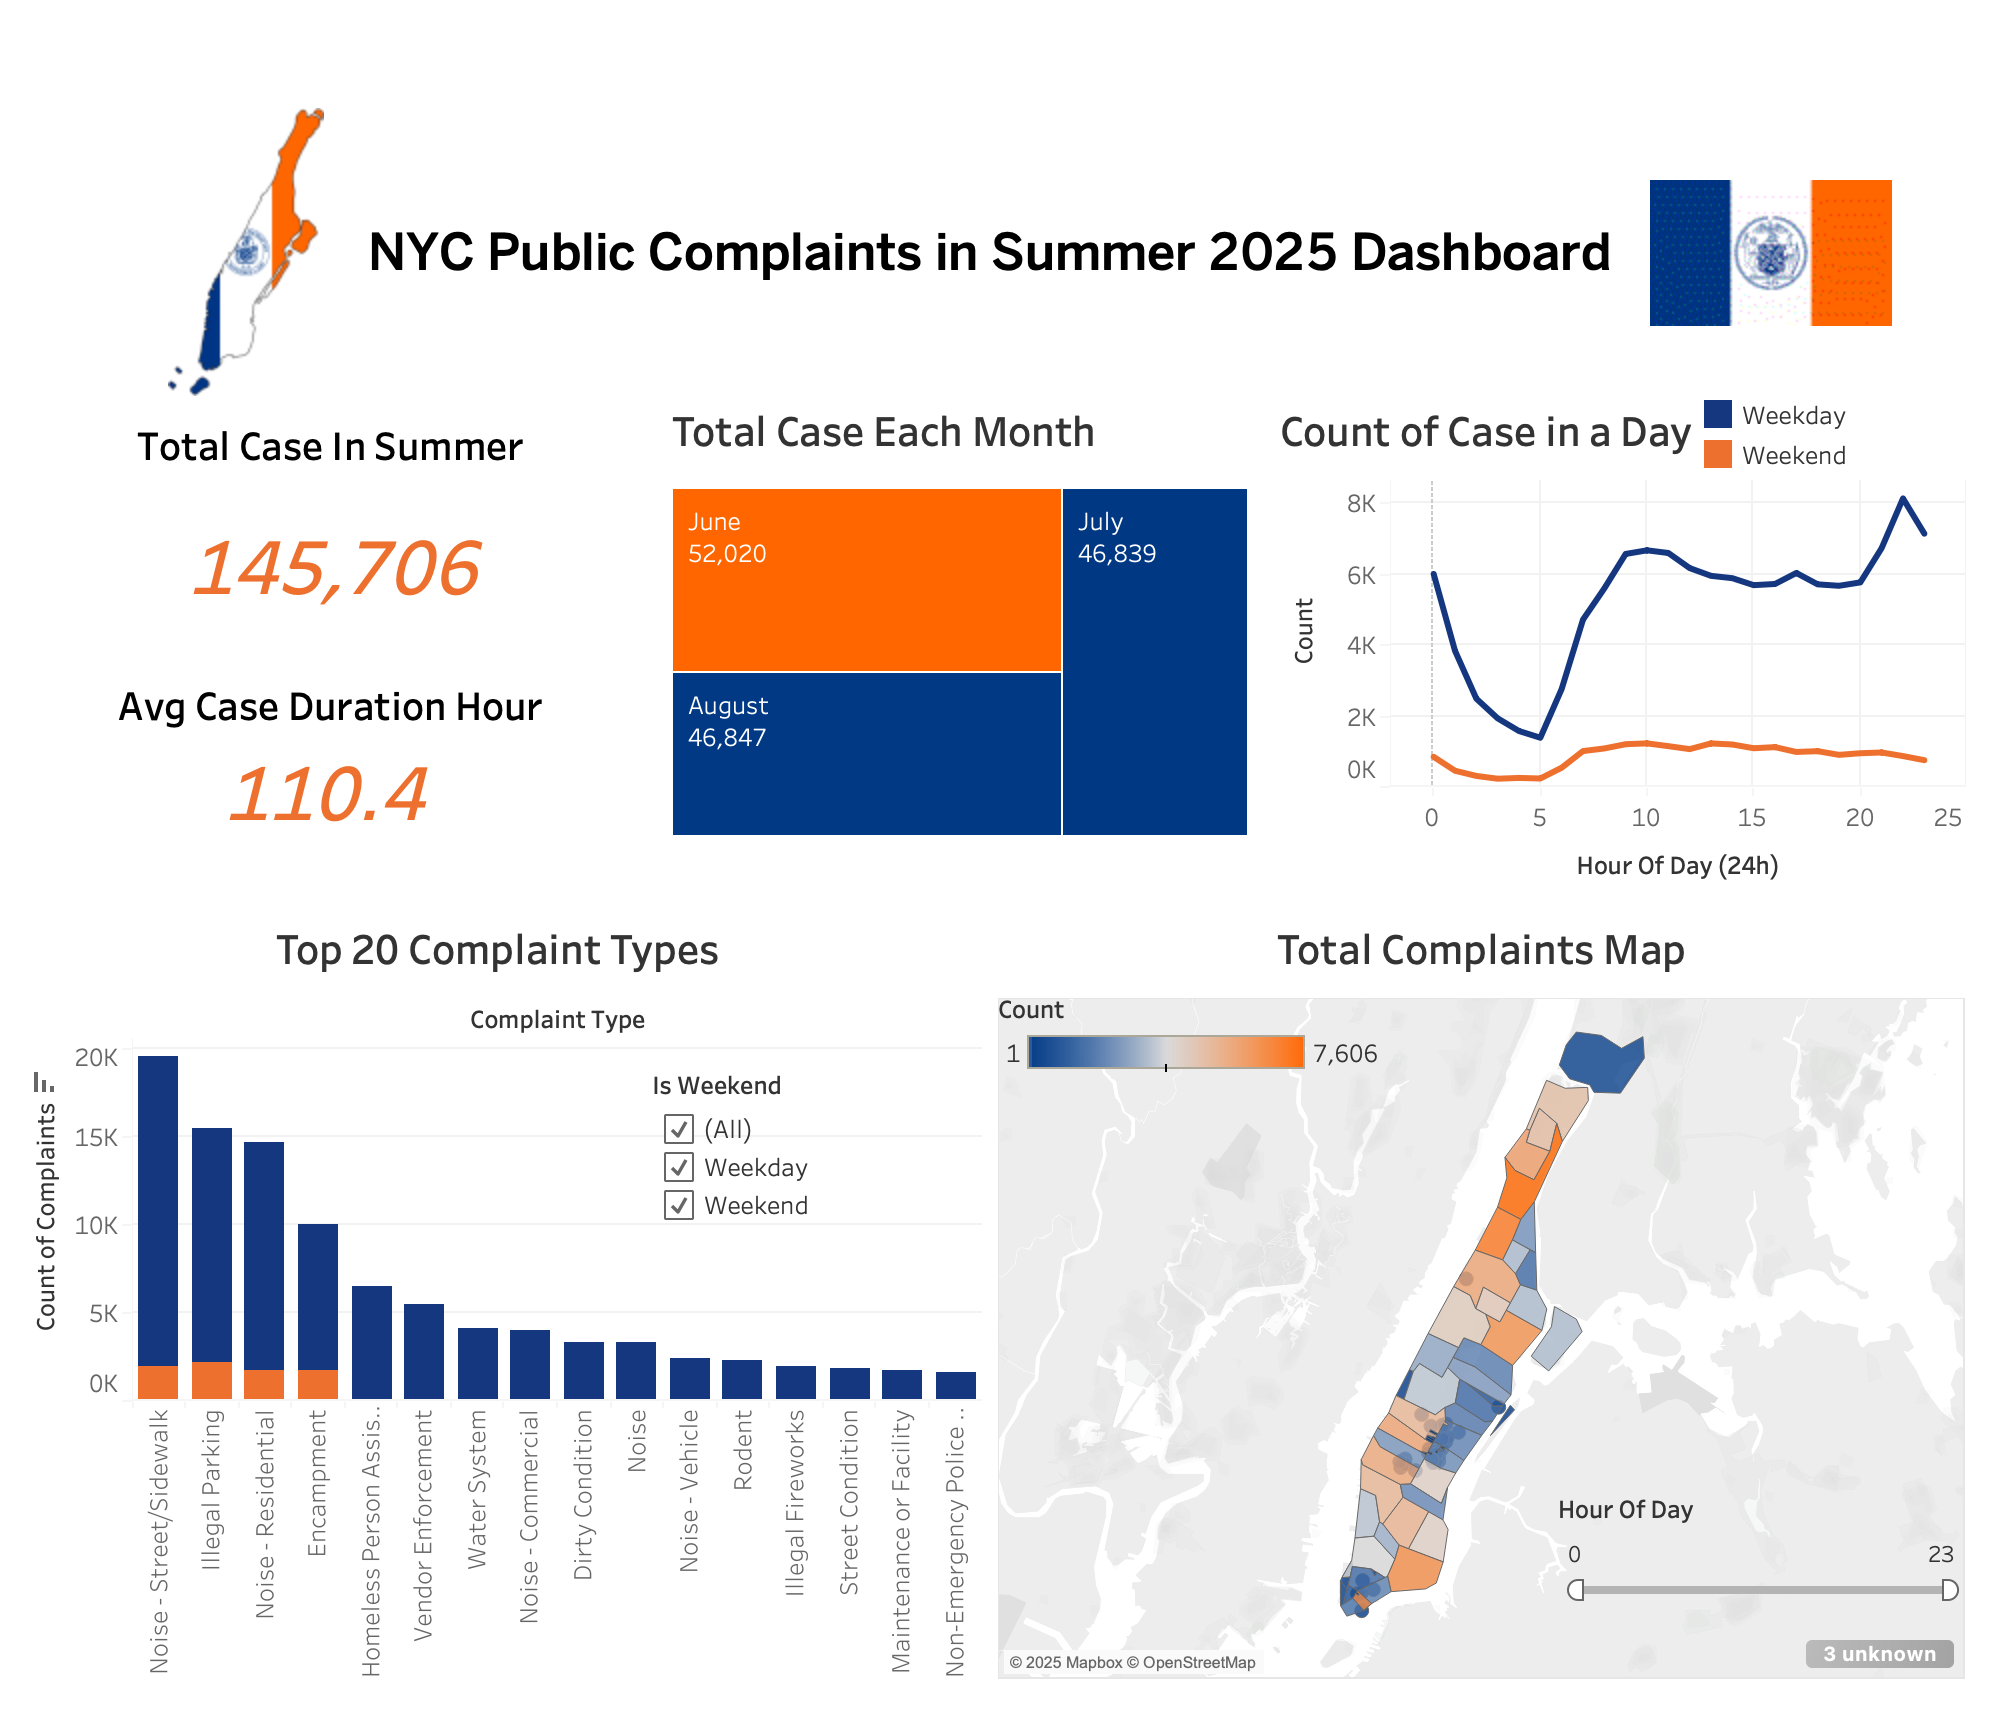

This screenshot's page, from the dashboard's own definition file:
{"tool":"tableau","page":{"name":"Dashboard 1","canvas":[1000,800],"ordinal":0},"visuals":[{"type":"image","param":"/Users/sky/Desktop/Flag-map_of_New_York_County,_New_York.svg.png","box":[86,2,85,144]},{"type":"text","box":[8,8,984,133]},{"type":"image","param":"/Users/sky/Desktop/download.png","box":[830,38,122,73]},{"type":"legend","title":"hour_change","param":"[federated.0iz966r11uf0it14vt8vk1uhdtyl].[none:IS_WEEKEND:nk]","box":[854,127,100,69]},{"type":"text","box":[8,141,325,59]},{"type":"worksheet","title":"month","mark":"Automatic","box":[333,141,304,259]},{"type":"worksheet","title":"hour_change","mark":"Automatic","rows":["FCT_311 (MLDS430.FCT_311)_B08B611AE380447B80797C8C56B890DD"],"cols":["HOUR_OF_DAY"],"box":[637,141,355,259]},{"type":"worksheet","title":"total_case","mark":"Automatic","box":[94,190,325,68]},{"type":"text","box":[8,200,325,200]},{"type":"worksheet","title":"avg_case_duration","mark":"Automatic","box":[107,303,325,78]},{"type":"worksheet","title":"top_20","mark":"Automatic","rows":["FCT_311 (MLDS430.FCT_311)_B08B611AE380447B80797C8C56B890DD"],"cols":["COMPLAINT_TYPE"],"box":[8,400,492,392]},{"type":"worksheet","title":"map","mark":"Multipolygon","box":[500,400,492,392]},{"type":"legend","title":"map","param":"[federated.0iz966r11uf0it14vt8vk1uhdtyl].[__tableau_internal_object_id__].[cnt:F","box":[504,444,195,113]},{"type":"filter","title":"top_20","param":"[federated.0iz966r11uf0it14vt8vk1uhdtyl].[none:IS_WEEKEND:nk]","box":[327,478,160,110]},{"type":"filter","title":"map","param":"[federated.0iz966r11uf0it14vt8vk1uhdtyl].[none:HOUR_OF_DAY:qk]","box":[784,694,205,90]}]}

Visuals, with their boxes on the page's 1000x800 design canvas (x1, y1, x2, y2). These are canvas units, not pixel positions in the 2010x1714 screenshot, which may show the page scaled, cropped or inside an application window:
image: detection(86, 2, 171, 146)
text: detection(8, 8, 992, 141)
image: detection(830, 38, 952, 111)
"hour_change" legend: detection(854, 127, 954, 196)
text: detection(8, 141, 333, 200)
"month" worksheet: detection(333, 141, 637, 400)
"hour_change" worksheet: detection(637, 141, 992, 400)
"total_case" worksheet: detection(94, 190, 419, 258)
text: detection(8, 200, 333, 400)
"avg_case_duration" worksheet: detection(107, 303, 432, 381)
"top_20" worksheet: detection(8, 400, 500, 792)
"map" worksheet (Multipolygon marks): detection(500, 400, 992, 792)
"map" legend: detection(504, 444, 699, 557)
"top_20" filter: detection(327, 478, 487, 588)
"map" filter: detection(784, 694, 989, 784)
